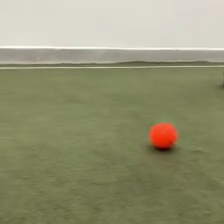ball: (148, 120, 178, 151)
